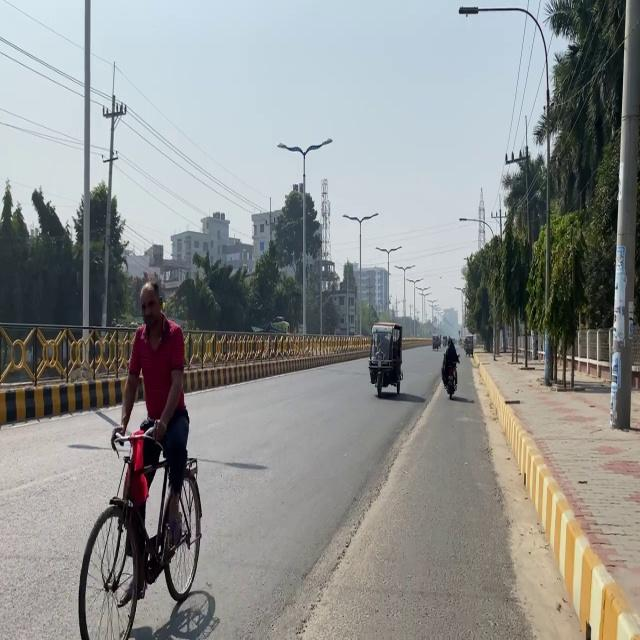Construction-barrier: (546, 498, 618, 640), (0, 375, 129, 425)
Fallen-tree: (368, 358, 401, 397), (441, 353, 460, 399)
Garbage-bin: (114, 280, 190, 606)
Light-pole: (608, 0, 639, 430), (80, 0, 92, 362)
Pothole: (469, 349, 638, 638)
Traffic-cone: (369, 321, 405, 397), (250, 315, 290, 334)
